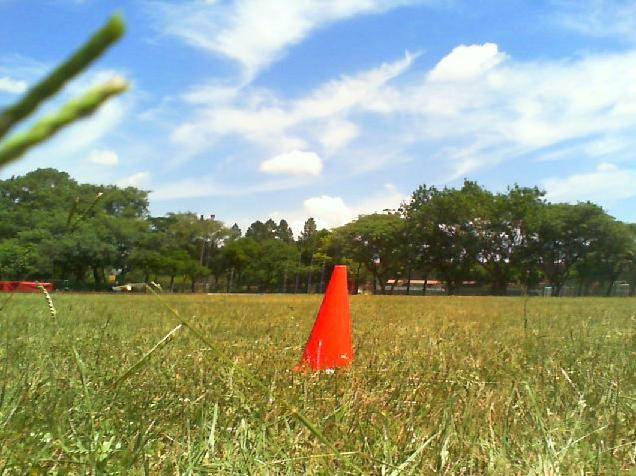0 cone: (295, 266, 352, 375)
